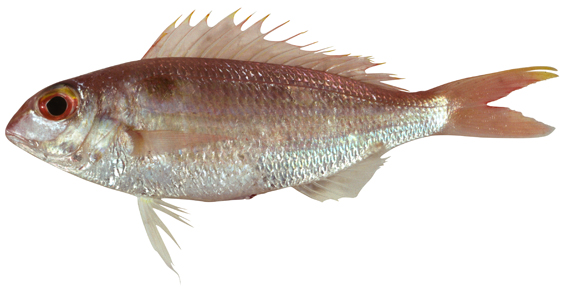fish: (4, 6, 557, 284)
